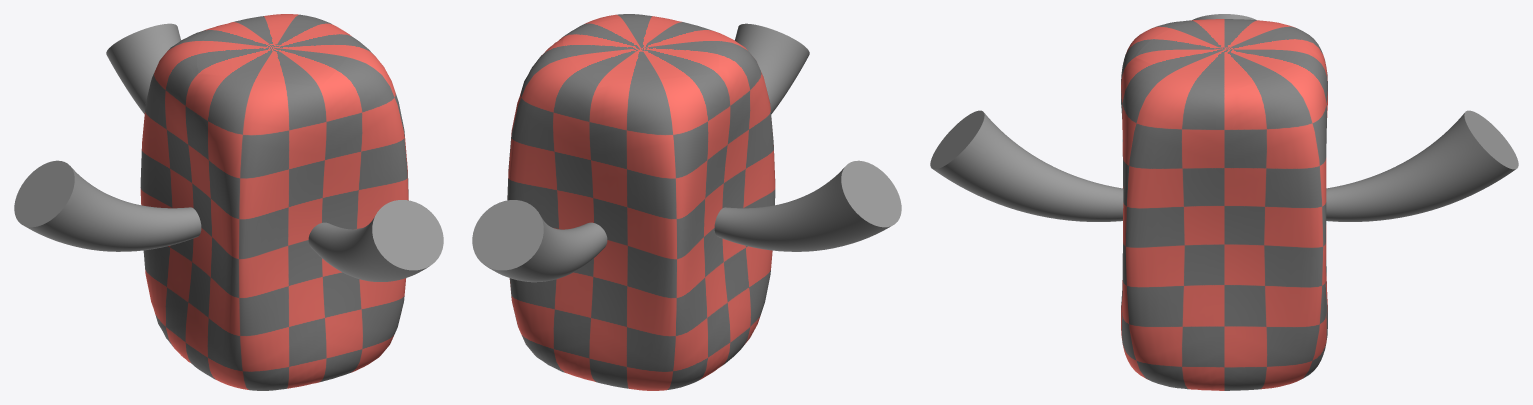
3 renders of one model, left to right at view 1: azimuth 30°, elevation 25°; view 2: azimuth 150°, elevation 25°; view 3: azimuth 270°, elevation 25°, orthographic.
Parts seen in each view (by area): view 1: Box001, Cone003, Cone001, Cone002; view 2: Box001, Cone003, Cone002, Cone001; view 3: Box001, Cone001, Cone002.
Boxes of the visible parts, x1,y1,x2,y2 form: Box001: (140,14,408,390); Cone003: (14,160,201,251); Cone001: (308,200,443,281); Cone002: (106,23,181,113); Box001: (507,14,775,390); Cone003: (714,160,901,251); Cone002: (472,200,607,282); Cone001: (734,23,809,113); Box001: (1121,19,1327,390); Cone001: (930,110,1123,221); Cone002: (1326,110,1518,221).
Size of the model in its own units: 56.95 by 49.08 by 84.23.
Materials: 2 (1 with a texture image).
